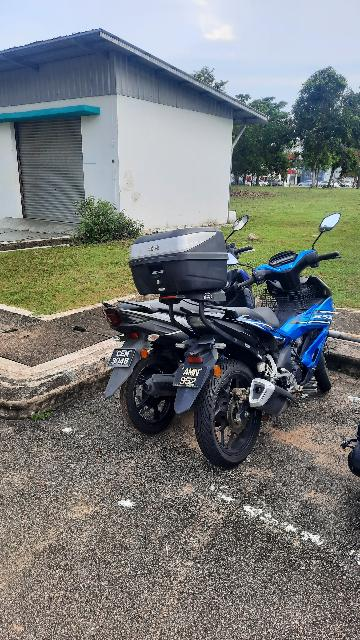License_Plate: (170, 364, 210, 391), (108, 347, 139, 369)
motorcycle: (129, 226, 348, 470), (86, 272, 248, 434)
